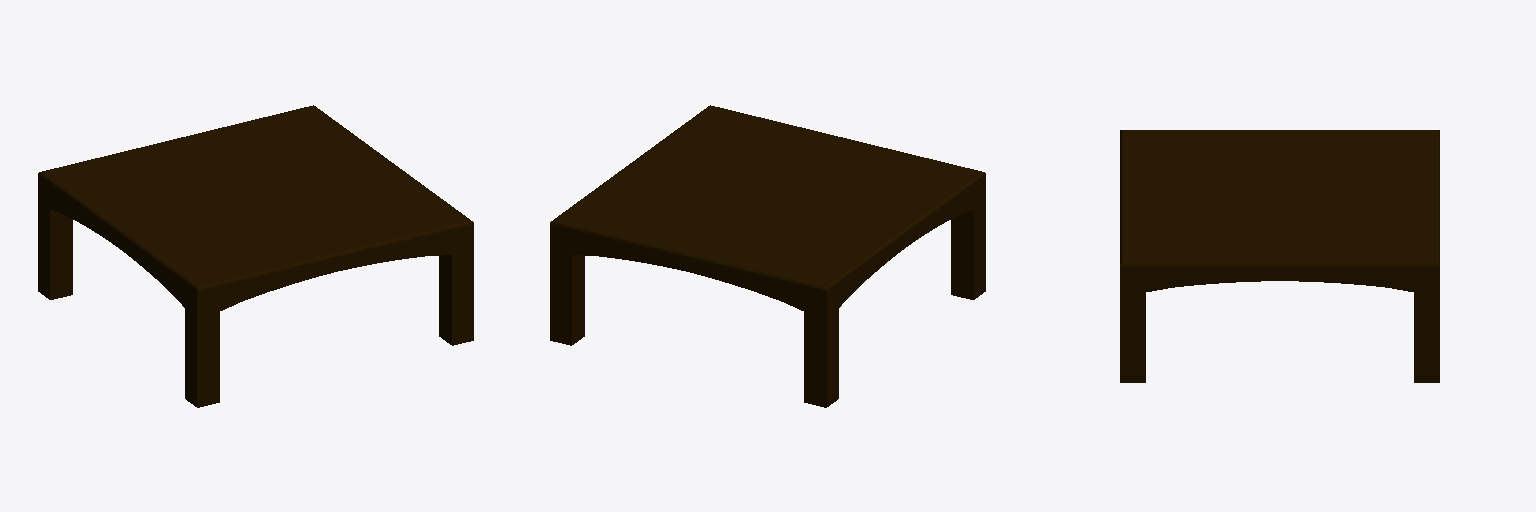
File: Table.obj
The picture shows the model from 3 angles: view 1: azimuth 30°, elevation 25°; view 2: azimuth 150°, elevation 25°; view 3: azimuth 270°, elevation 25°; orthographic projection.
Visible parts, largest first — view 1: TopShape; view 2: TopShape; view 3: TopShape.
Boxes of the visible parts, x1=… form: TopShape: x1=38, y1=105, x2=473, y2=407; TopShape: x1=550, y1=105, x2=985, y2=407; TopShape: x1=1120, y1=130, x2=1439, y2=382.
Bounding box in the file's own units: 5 × 2.06 × 5.